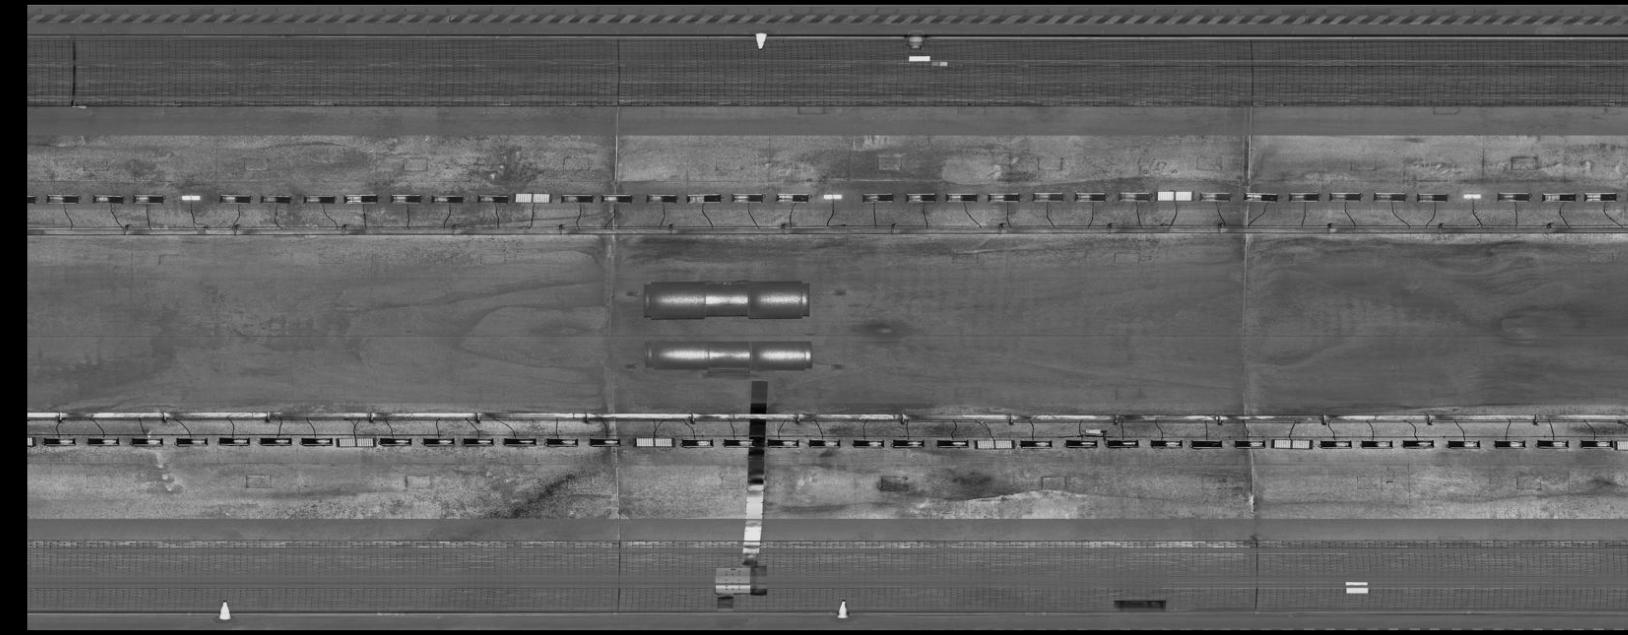light: (1113, 187, 1154, 204), (512, 190, 554, 206), (1269, 437, 1315, 451), (340, 191, 380, 208), (971, 437, 1016, 451), (1154, 188, 1195, 203), (557, 190, 595, 206), (334, 435, 378, 449), (631, 435, 675, 449), (983, 189, 1024, 204), (1241, 189, 1281, 204), (1371, 188, 1408, 204), (1538, 190, 1580, 204), (386, 190, 423, 206), (642, 190, 680, 205), (1029, 189, 1067, 204), (683, 191, 724, 205), (44, 190, 81, 205), (130, 191, 167, 206), (301, 192, 338, 208), (429, 191, 466, 206), (598, 190, 635, 205), (1070, 189, 1108, 204), (1327, 189, 1364, 204), (727, 190, 765, 204), (942, 190, 980, 204), (1581, 190, 1620, 204), (1103, 436, 1141, 450), (1493, 190, 1534, 203), (1197, 189, 1234, 203), (889, 436, 926, 450), (215, 192, 254, 205), (256, 192, 293, 206), (474, 192, 511, 206), (902, 191, 939, 205), (1284, 189, 1321, 203), (1414, 190, 1450, 204), (932, 435, 969, 449), (39, 434, 78, 447), (1187, 437, 1225, 450), (1230, 436, 1269, 449), (1356, 438, 1398, 450), (1490, 438, 1531, 450), (774, 190, 811, 203), (298, 434, 335, 447), (720, 436, 757, 449), (763, 437, 801, 450), (1398, 437, 1437, 449), (1443, 438, 1483, 450), (1534, 437, 1573, 449), (89, 192, 126, 205), (859, 191, 897, 203), (216, 435, 254, 447), (256, 435, 295, 447), (587, 436, 625, 448), (172, 435, 210, 447), (1061, 438, 1098, 450), (127, 436, 167, 447), (420, 435, 457, 447), (806, 437, 842, 449), (849, 437, 886, 449), (1017, 438, 1054, 450), (1317, 439, 1353, 451), (82, 436, 121, 447), (541, 436, 580, 447), (679, 437, 714, 449), (375, 436, 413, 447), (500, 436, 539, 447), (1576, 438, 1615, 449), (1147, 438, 1185, 449), (460, 436, 495, 447), (177, 191, 203, 203), (1458, 191, 1486, 201), (821, 191, 845, 202), (28, 190, 39, 206), (28, 432, 37, 449), (1615, 439, 1628, 450)
